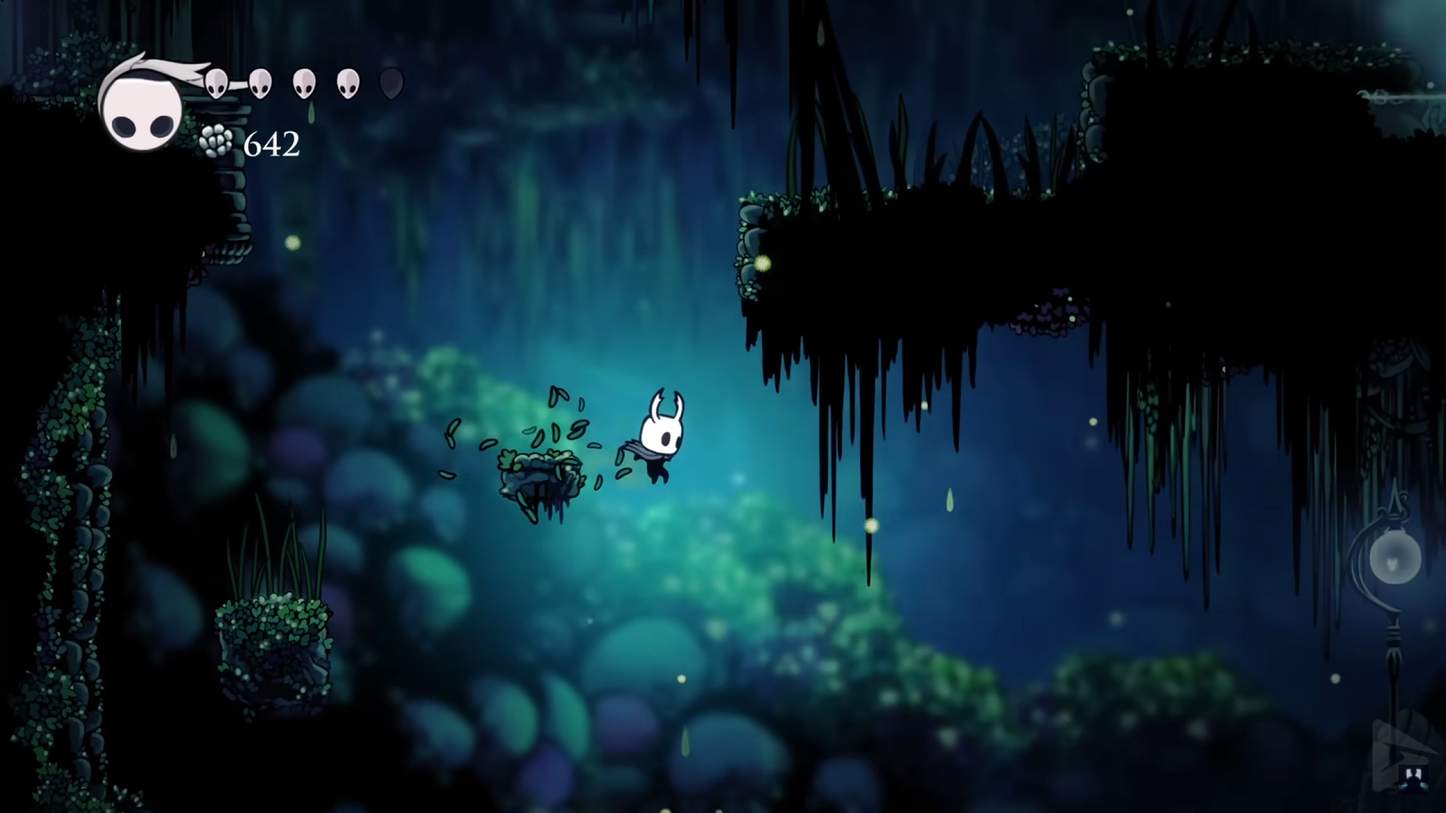HK: (621, 385, 690, 489)
